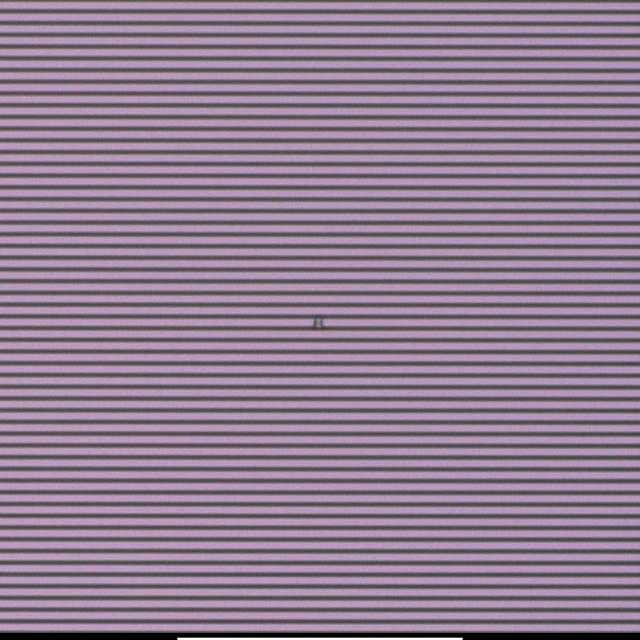03_intrusion: (311, 308, 327, 334)
